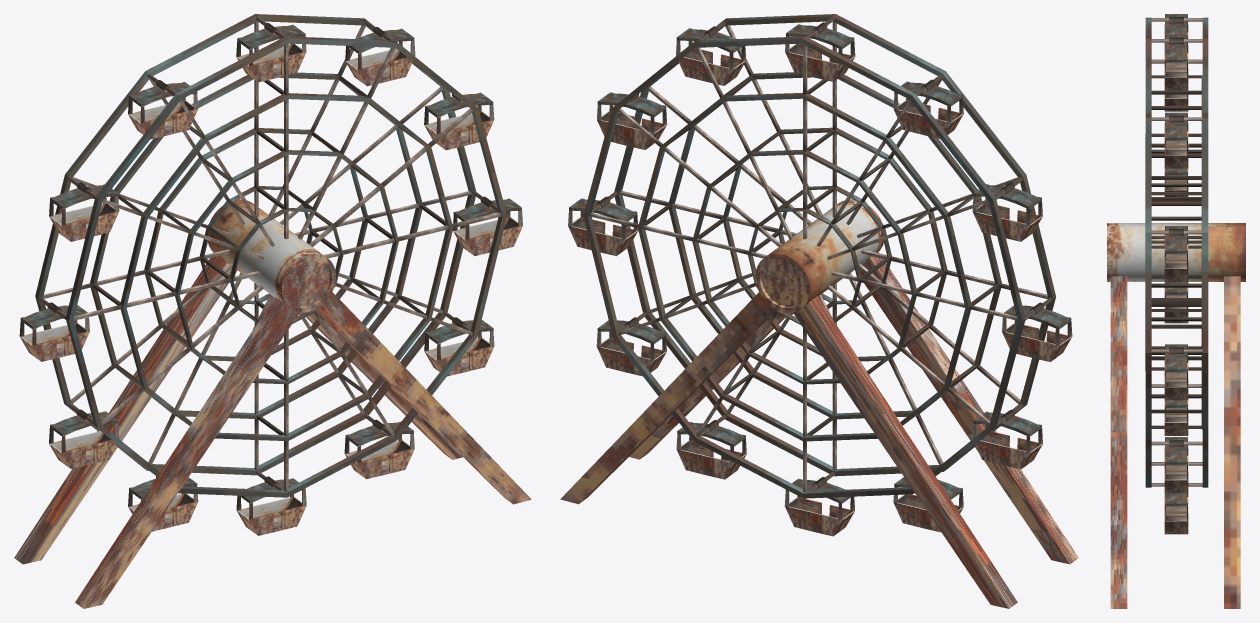
The model's file is FerrisWheel.fbx.
The picture shows the model from 3 angles, left to right: view 1: azimuth 30°, elevation 25°; view 2: azimuth 150°, elevation 25°; view 3: azimuth 270°, elevation 25°; orthographic projection. The views are drawn at different scales.
Parts seen in each view (by area): view 1: Frame, Frame.002, Cube.015, Cube.014, Cylinder.013, Frame.001, Cube.012, Seats.008, Seats.009, Seats.003, Seats.010, Seats.006 (+21 smaller); view 2: Frame, Frame.002, Cube.014, Cube.015, Cylinder.013, Frame.001, Cube.013, Seats.008, Seats.009, Seats.003, Seats.010, Seats.005 (+21 smaller); view 3: Frame, Cube.012, Cylinder.013, Cube.013, Seats, Seats.001, Seats.002, Seats.004, Seats.003, Seats.005, Seats.007, Frame.002 (+16 smaller).
Boxes of the visible parts, x1,y1,x2,y2 form: Frame: (35, 14, 506, 497); Frame.002: (90, 72, 453, 441); Cube.015: (75, 297, 299, 608); Cube.014: (14, 252, 237, 564); Cylinder.013: (208, 199, 335, 312); Frame.001: (144, 128, 398, 384); Cube.012: (315, 292, 531, 504); Seats.008: (49, 409, 118, 468); Seats.009: (19, 302, 89, 361); Seats.003: (453, 196, 522, 255); Seats.010: (49, 182, 119, 241); Seats.006: (236, 476, 306, 535); Frame: (583, 14, 1055, 498); Frame.002: (638, 72, 1001, 441); Cube.014: (793, 296, 1017, 608); Cube.015: (859, 251, 1078, 564); Cylinder.013: (755, 199, 883, 312); Frame.001: (692, 127, 947, 384); Cube.013: (560, 292, 776, 504); Seats.008: (972, 409, 1042, 469); Seats.009: (1002, 302, 1072, 361); Seats.003: (568, 196, 638, 256); Seats.010: (972, 182, 1042, 241); Seats.005: (676, 420, 746, 479); Frame: (1145, 17, 1208, 487); Cube.012: (1110, 276, 1127, 608); Cylinder.013: (1107, 223, 1245, 281); Cube.013: (1224, 276, 1240, 608); Seats: (1164, 34, 1188, 90); Seats.001: (1164, 112, 1188, 168); Seats.002: (1164, 226, 1188, 282); Seats.004: (1164, 437, 1188, 493); Seats.003: (1164, 344, 1188, 400); Seats.005: (1164, 493, 1188, 534); Seats.007: (1164, 400, 1188, 435); Frame.002: (1201, 75, 1202, 429).
Bounding box in the file's own units: 4500 × 4409 × 1184.
